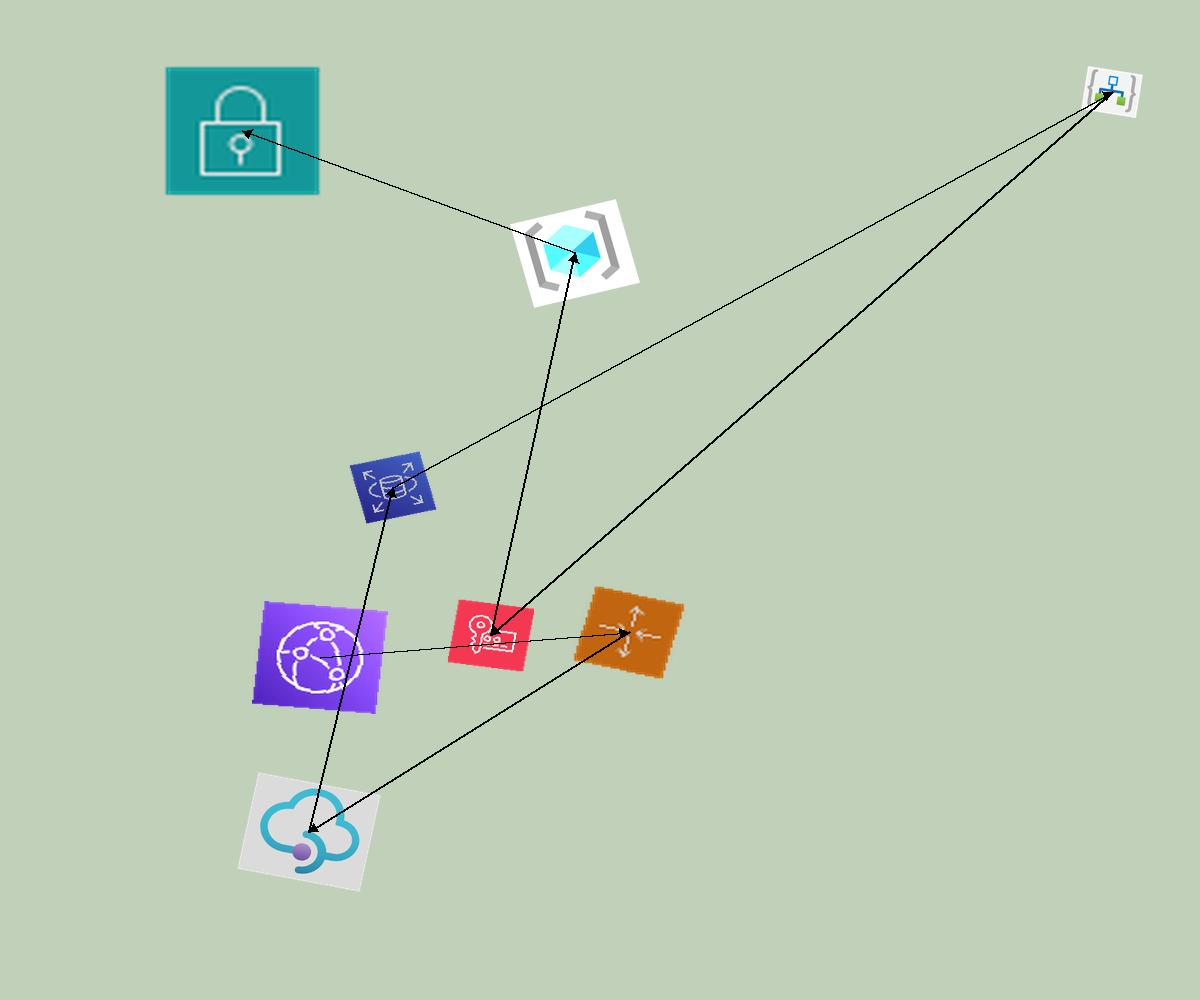AWS-CloudFront: (252, 601, 388, 714)
AWS-Key-Management-Service: (447, 599, 535, 672)
AWS-Private-subnet: (162, 64, 323, 198)
AWS-RDS: (349, 451, 437, 524)
AWS-Scaling-group: (572, 585, 686, 680)
Azure_api_gateway: (237, 772, 381, 892)
Azure_integration-204-Logic-Apps: (1081, 66, 1143, 118)
Azure_resource_group: (510, 199, 640, 308)
